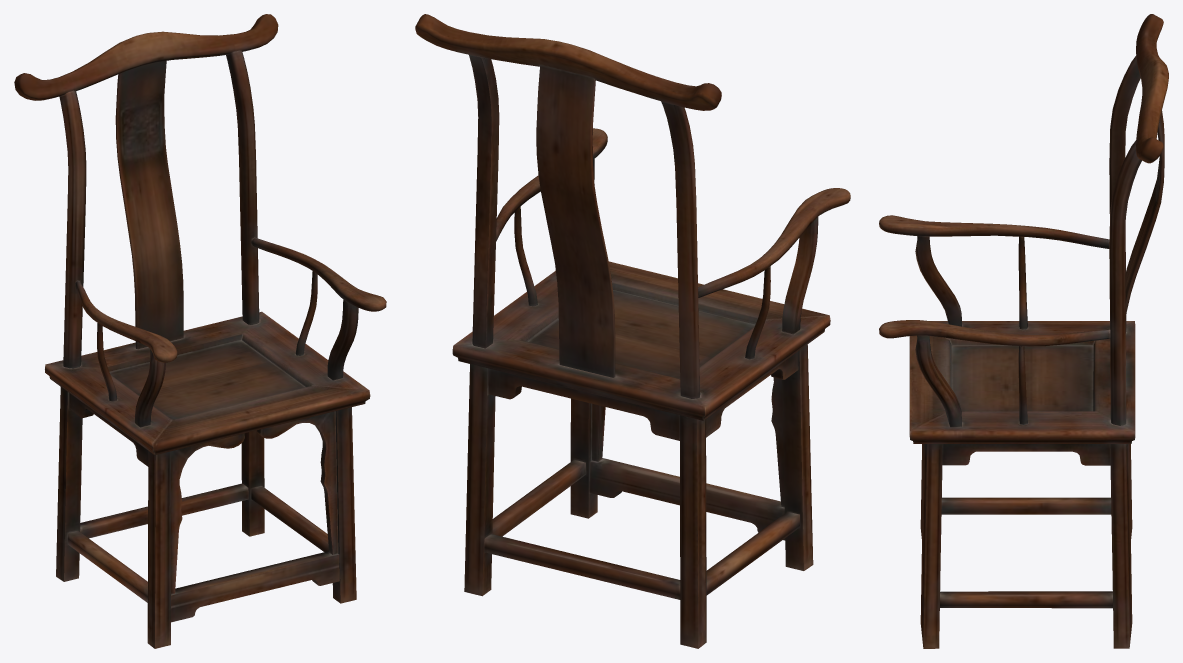
File: chinese_armchair.glb
3 views of the same model, side by side, from view 1: azimuth 30°, elevation 25°; view 2: azimuth 150°, elevation 25°; view 3: azimuth 270°, elevation 25° (orthographic). The views are drawn at different scales.
Parts seen in each view (by area): view 1: chinese_armchair; view 2: chinese_armchair; view 3: chinese_armchair.
Boxes of the visible parts, x1,y1,x2,y2 form: chinese_armchair: (14,14,386,648); chinese_armchair: (415,14,850,648); chinese_armchair: (879,14,1168,648).
Size of the model in its own units: 0.8483 by 1.59 by 0.7887.
Materials: 1 (1 with a texture image).
